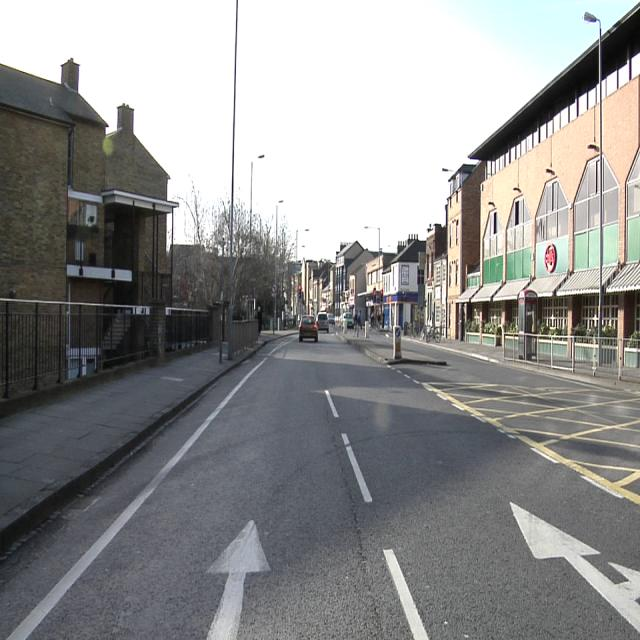Building: (451, 6, 637, 348), (1, 61, 173, 302), (308, 223, 446, 334), (174, 245, 222, 307), (300, 259, 333, 317)
Car: (299, 316, 318, 340), (318, 313, 328, 331), (342, 313, 354, 328)
Road: (2, 333, 639, 627)
Tree: (177, 190, 294, 324), (234, 196, 294, 324), (175, 178, 229, 255)
